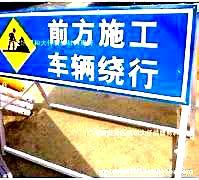sign: (1, 7, 190, 101)
